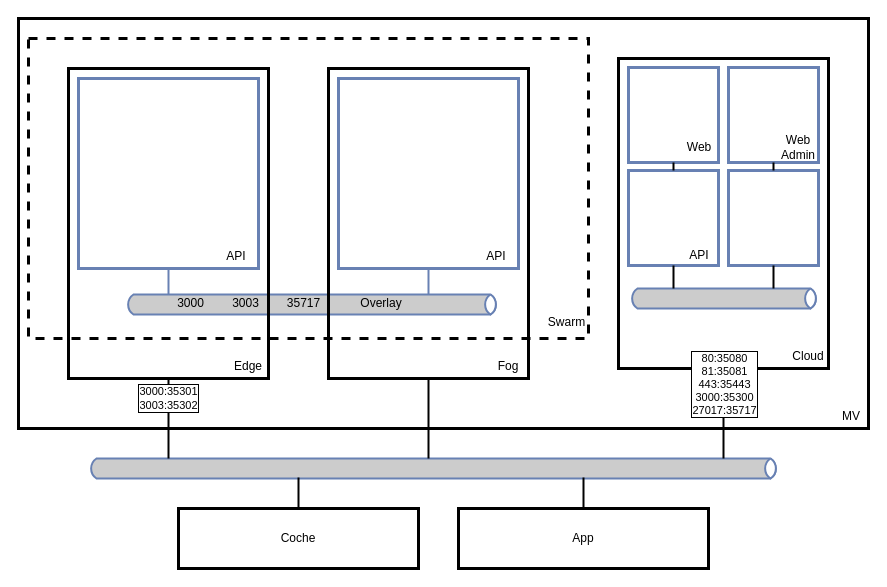
Image size: 887x587. Some labels were removed from this diagram. The box of each missing label's shape, as (x1, y1, x2, y2) in pixels:
Bridge: (628, 287, 819, 309)
Internet: (87, 457, 779, 479)
MongoDB: (726, 168, 820, 266)
